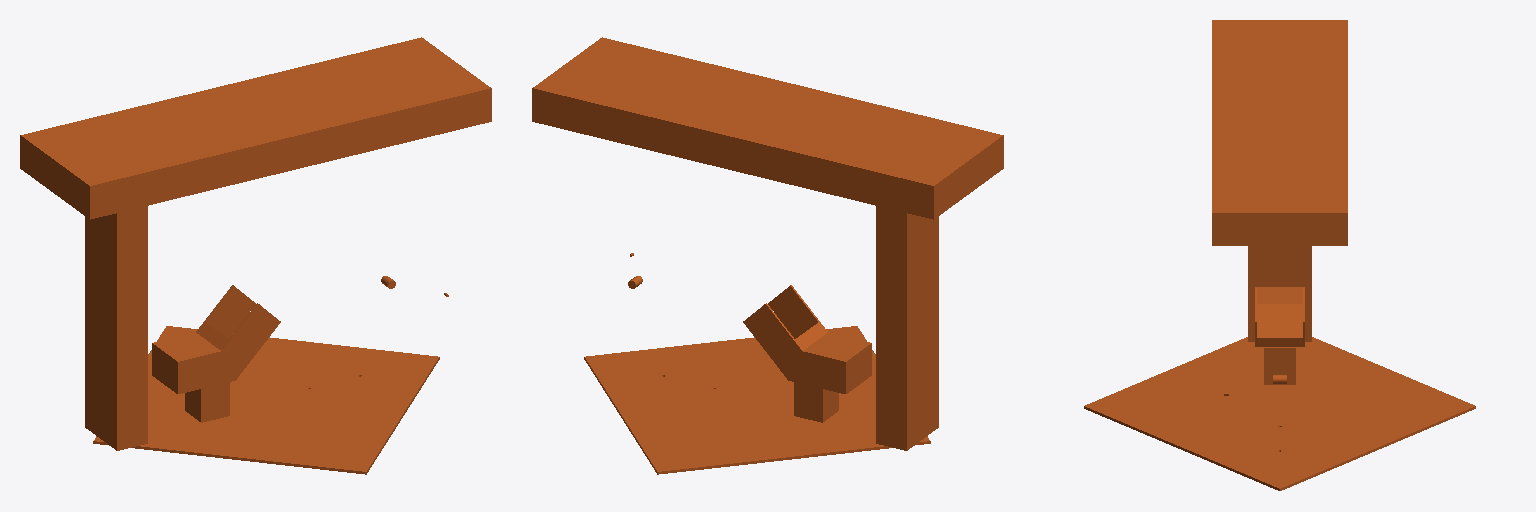
The robot description file, URDF, robot "dorna_2_urdf_collision":
<?xml version="1.0" encoding="utf-8"?>
<!-- This URDF was automatically created by SolidWorks to URDF Exporter! Originally created by [author] ([email redacted]) 
     Commit Version: 1.6.0-1-g15f4949  Build Version: 1.6.7594.29634
     For more information, please see http://wiki.ros.org/sw_urdf_exporter -->
<robot
  name="dorna_2_urdf_collision">
  <link
    name="base_link_col">
    <inertial>
      <origin
        xyz="0.083451 3.5735E-15 0.3539"
        rpy="0 0 0" />
      <mass
        value="49.605" />
      <inertia
        ixx="0.98272"
        ixy="-3.1641E-15"
        ixz="-1.1558E-14"
        iyy="2.7951"
        iyz="6.5198E-16"
        izz="3.3445" />
    </inertial>
    <visual>
      <origin
        xyz="0 0 0"
        rpy="0 0 0" />
      <geometry>
        <mesh
          filename="package://dorna_2_urdf_collision/meshes/base_link_col.STL" />
      </geometry>
      <material
        name="">
        <color
          rgba="0.76078 0.4 0.18039 0.3" />
      </material>
    </visual>
    <collision>
      <origin
        xyz="0 0 0"
        rpy="0 0 0" />
      <geometry>
        <mesh
          filename="package://dorna_2_urdf_collision/meshes/base_link_col.STL" />
      </geometry>
    </collision>
  </link>
  <link
    name="Link_1_col">
    <inertial>
      <origin
        xyz="-0.015094 -5.3291E-15 0.13585"
        rpy="0 0 0" />
      <mass
        value="1.5791" />
      <inertia
        ixx="0.0029521"
        ixy="1.2251E-17"
        ixz="-0.00069421"
        iyy="0.0056737"
        iyz="3.7776E-18"
        izz="0.0062883" />
    </inertial>
    <visual>
      <origin
        xyz="0 0 0"
        rpy="0 0 0" />
      <geometry>
        <mesh
          filename="package://dorna_2_urdf_collision/meshes/Link_1_col.STL" />
      </geometry>
      <material
        name="">
        <color
          rgba="0.76078 0.4 0.18039 0.3" />
      </material>
    </visual>
    <collision>
      <origin
        xyz="0 0 0"
        rpy="0 0 0" />
      <geometry>
        <mesh
          filename="package://dorna_2_urdf_collision/meshes/Link_1_col.STL" />
      </geometry>
    </collision>
  </link>
  <joint
    name="Joint_0"
    type="revolute">
    <origin
      xyz="0 0 0"
      rpy="0 0 0" />
    <parent
      link="base_link_col" />
    <child
      link="Link_1_col" />
    <axis
      xyz="0 0 1" />
    <limit
      lower="-2.7925"
      upper="3.1416"
      effort="10"
      velocity="10.472" />
  </joint>
  <link
    name="Link_2_col">
    <inertial>
      <origin
        xyz="0.043312 -0.0508 -2.4286E-07"
        rpy="0 0 0" />
      <mass
        value="1.0505" />
      <inertia
        ixx="0.0012117"
        ixy="6.1528E-17"
        ixz="5.8049E-14"
        iyy="0.0041555"
        iyz="-2.0844E-17"
        izz="0.0047565" />
    </inertial>
    <visual>
      <origin
        xyz="0 0 0"
        rpy="0 0 0" />
      <geometry>
        <mesh
          filename="package://dorna_2_urdf_collision/meshes/Link_2_col.STL" />
      </geometry>
      <material
        name="">
        <color
          rgba="0.76078 0.4 0.18039 0.3" />
      </material>
    </visual>
    <collision>
      <origin
        xyz="0 0 0"
        rpy="0 0 0" />
      <geometry>
        <mesh
          filename="package://dorna_2_urdf_collision/meshes/Link_2_col.STL" />
      </geometry>
    </collision>
  </link>
  <joint
    name="Joint_1"
    type="revolute">
    <origin
      xyz="0.095476 0.0508 0.20647"
      rpy="0 0 0" />
    <parent
      link="Link_1_col" />
    <child
      link="Link_2_col" />
    <axis
      xyz="0 1 0" />
    <limit
      lower="-1.5708"
      upper="3.1415"
      effort="10"
      velocity="7.854" />
  </joint>
  <link
    name="Link_3_col">
    <inertial>
      <origin
        xyz="0.032637 -0.04445 1.6417E-13"
        rpy="0 0 0" />
      <mass
        value="0.77123" />
      <inertia
        ixx="0.00061477"
        ixy="4.0088E-17"
        ixz="-1.1158E-17"
        iyy="0.0024892"
        iyz="-1.353E-17"
        izz="0.0027826" />
    </inertial>
    <visual>
      <origin
        xyz="0 0 0"
        rpy="0 0 0" />
      <geometry>
        <mesh
          filename="package://dorna_2_urdf_collision/meshes/Link_3_col.STL" />
      </geometry>
      <material
        name="">
        <color
          rgba="0.76078 0.4 0.18039 0.3" />
      </material>
    </visual>
    <collision>
      <origin
        xyz="0 0 0"
        rpy="0 0 0" />
      <geometry>
        <mesh
          filename="package://dorna_2_urdf_collision/meshes/Link_3_col.STL" />
      </geometry>
    </collision>
  </link>
  <joint
    name="Joint_2"
    type="revolute">
    <origin
      xyz="0.2032 -0.00635 0"
      rpy="0 0 0" />
    <parent
      link="Link_2_col" />
    <child
      link="Link_3_col" />
    <axis
      xyz="0 1 0" />
    <limit
      lower="-2.4784"
      upper="2.4784"
      effort="10"
      velocity="7.854" />
  </joint>
  <link
    name="Link_4_col">
    <inertial>
      <origin
        xyz="-5.38458166943201E-15 -0.0412750000000147 2.08166817117217E-15"
        rpy="0 0 0" />
      <mass
        value="0.00942477796076938" />
      <inertia
        ixx="9.42477796076939E-07"
        ixy="-9.85999290163209E-21"
        ixz="-3.35345028402582E-34"
        iyy="4.71238898038469E-07"
        iyz="-1.62577890766366E-20"
        izz="9.42477796076939E-07" />
    </inertial>
    <visual>
      <origin
        xyz="0 0 0"
        rpy="0 0 0" />
      <geometry>
        <mesh
          filename="package://dorna_2_urdf_collision/meshes/Link_4_col.STL" />
      </geometry>
      <material
        name="">
        <color
          rgba="0.76078431372549 0.4 0.180392156862745 0.3" />
      </material>
    </visual>
    <collision>
      <origin
        xyz="0 0 0"
        rpy="0 0 0" />
      <geometry>
        <mesh
          filename="package://dorna_2_urdf_collision/meshes/Link_4_col.STL" />
      </geometry>
    </collision>
  </link>
  <joint
    name="Joint_3"
    type="revolute">
    <origin
      xyz="0.1524 -0.003175 0"
      rpy="0 0 0" />
    <parent
      link="Link_3_col" />
    <child
      link="Link_4_col" />
    <axis
      xyz="0 -1 0" />
    <limit
      lower="-2.3562"
      upper="2.3562"
      effort="10"
      velocity="34.907" />
  </joint>
  <link
    name="Link_5_col">
    <inertial>
      <origin
        xyz="0.093841 -0.029524 2.4285E-07"
        rpy="0 0 0" />
      <mass
        value="0.58203" />
      <inertia
        ixx="0.0014569"
        ixy="-2.3378E-17"
        ixz="-1.966E-19"
        iyy="0.00032834"
        iyz="-4.1885E-17"
        izz="0.0014946" />
    </inertial>
    <visual>
      <origin
        xyz="0 0 0"
        rpy="0 0 0" />
      <geometry>
        <mesh
          filename="package://dorna_2_urdf_collision/meshes/Link_5_col.STL" />
      </geometry>
      <material
        name="">
        <color
          rgba="0.76078 0.4 0.18039 0.3" />
      </material>
    </visual>
    <collision>
      <origin
        xyz="0 0 0"
        rpy="0 0 0" />
      <geometry>
        <mesh
          filename="package://dorna_2_urdf_collision/meshes/Link_5_col.STL" />
      </geometry>
    </collision>
  </link>
  <joint
    name="Joint_4"
    type="continuous">
    <origin
      xyz="-0.021438 -0.041275 0"
      rpy="0 0 0" />
    <parent
      link="Link_4_col" />
    <child
      link="Link_5_col" />
    <axis
      xyz="-1 0 0" />
  </joint>
  <link
    name="Link_6_col">
    <inertial>
      <origin
        xyz="8.6389E-09 0.005 2.5118E-07"
        rpy="0 0 0" />
      <mass
        value="0.00031177" />
      <inertia
        ixx="3.3775E-09"
        ixy="-3.5362E-23"
        ixz="-1.5529E-24"
        iyy="1.5588E-09"
        iyz="-6.7576E-23"
        izz="3.3775E-09" />
    </inertial>
    <visual>
      <origin
        xyz="0 0 0"
        rpy="0 0 0" />
      <geometry>
        <mesh
          filename="package://dorna_2_urdf_collision/meshes/Link_6_col.STL" />
      </geometry>
      <material
        name="">
        <color
          rgba="0.76078 0.4 0.18039 0.3" />
      </material>
    </visual>
    <collision>
      <origin
        xyz="0 0 0"
        rpy="0 0 0" />
      <geometry>
        <mesh
          filename="package://dorna_2_urdf_collision/meshes/Link_6_col.STL" />
      </geometry>
    </collision>
  </link>
  <joint
    name="Joint_5"
    type="continuous">
    <origin
      xyz="0.097875 -0.12269 0"
      rpy="0 0 0" />
    <parent
      link="Link_5_col" />
    <child
      link="Link_6_col" />
    <axis
      xyz="0 1 0" />
  </joint>
</robot>

--- Render facts (derived) ---
Views: 3 orthographic renders of the robot side by side, from view 1: azimuth 30°, elevation 25°; view 2: azimuth 150°, elevation 25°; view 3: azimuth 270°, elevation 25°.
Model dorna_2_urdf_collision with 7 links and 6 joints (4 revolute, 2 continuous), rooted at base_link_col, posed every joint at zero.
Links seen in each view (by area): view 1: base_link_col, Link_1_col; view 2: base_link_col, Link_1_col; view 3: base_link_col, Link_1_col.
Link boxes in pixels (bbox=[...]): base_link_col: bbox=[20, 37, 491, 474]; Link_1_col: bbox=[152, 285, 280, 393]; base_link_col: bbox=[532, 37, 1003, 474]; Link_1_col: bbox=[743, 285, 871, 393]; base_link_col: bbox=[1084, 20, 1475, 490]; Link_1_col: bbox=[1255, 287, 1304, 346].
Size in the robot's own frame: 1 by 0.8621 by 0.6959 metres.
Meshes: 7 distinct files referenced, 4 mesh visuals loaded (4 binary STL); not drawn: 3 (reference not matched to a file when rendering).